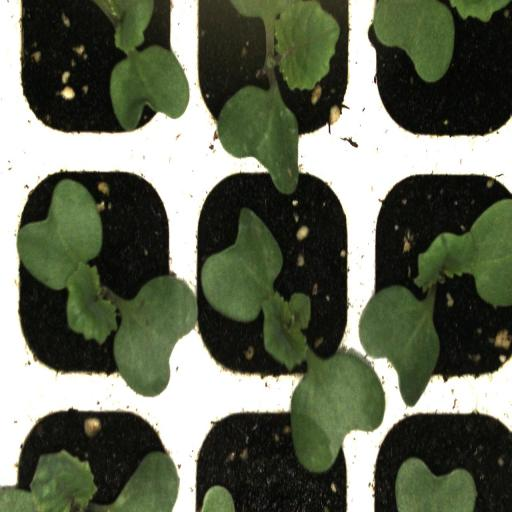Folha: (16, 178, 512, 474), (205, 0, 341, 195), (94, 0, 189, 130), (370, 0, 512, 83), (395, 457, 477, 512)
Germinacao: (5, 166, 184, 396), (184, 169, 362, 397), (362, 168, 512, 395)
